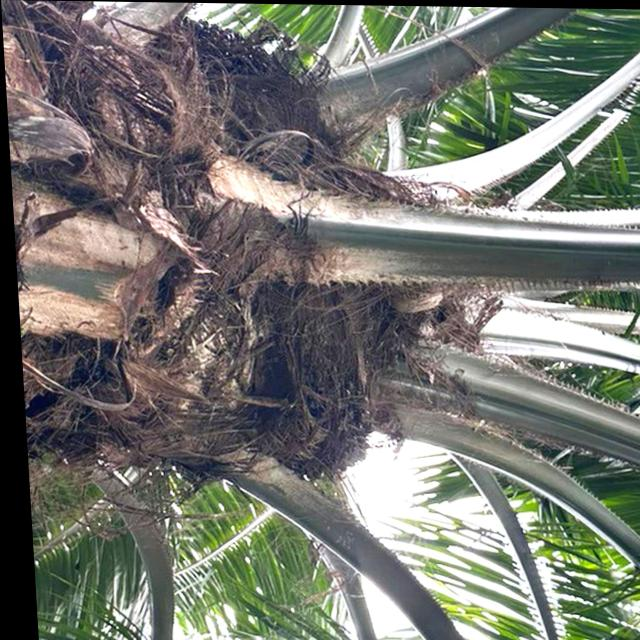unripe: (137, 3, 309, 137), (240, 339, 380, 485)
